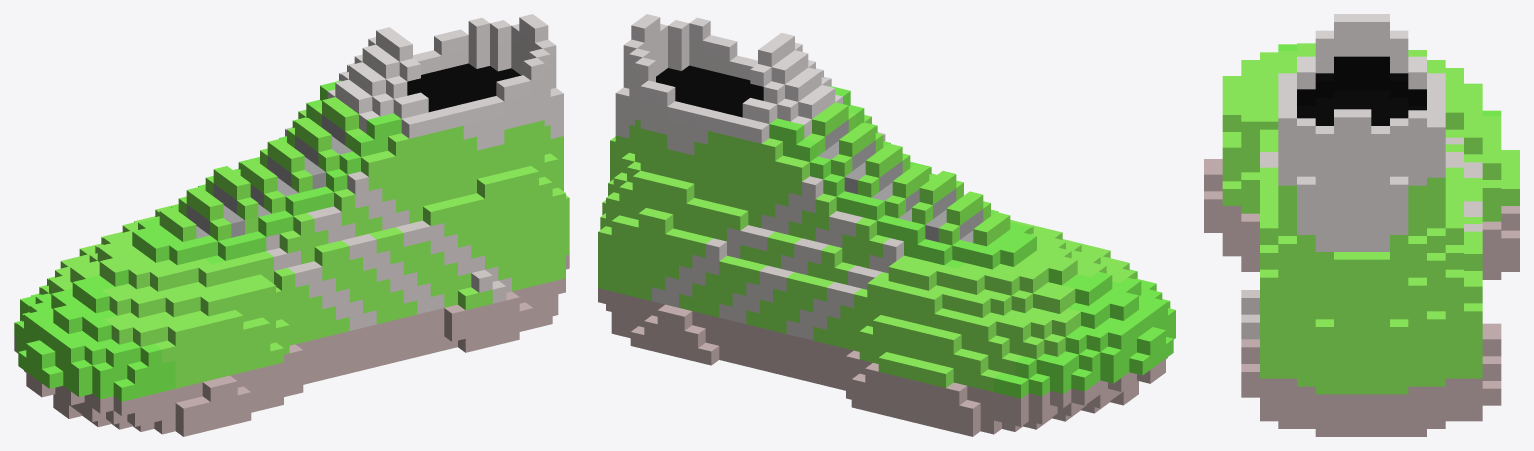
The model's file is Off Lime.fbx.
The picture shows the model from 3 angles, left to right: view 1: azimuth 30°, elevation 25°; view 2: azimuth 150°, elevation 25°; view 3: azimuth 270°, elevation 25°; orthographic projection. The views are drawn at different scales.
Parts seen in each view (by area): view 1: Untitled; view 2: Untitled; view 3: Untitled.
Boxes of the visible parts, bbox=[...] form: Untitled: bbox=[14, 14, 569, 436]; Untitled: bbox=[598, 14, 1175, 436]; Untitled: bbox=[1204, 14, 1519, 436].
Bounding box in the file's own units: 390 × 200 × 170.
